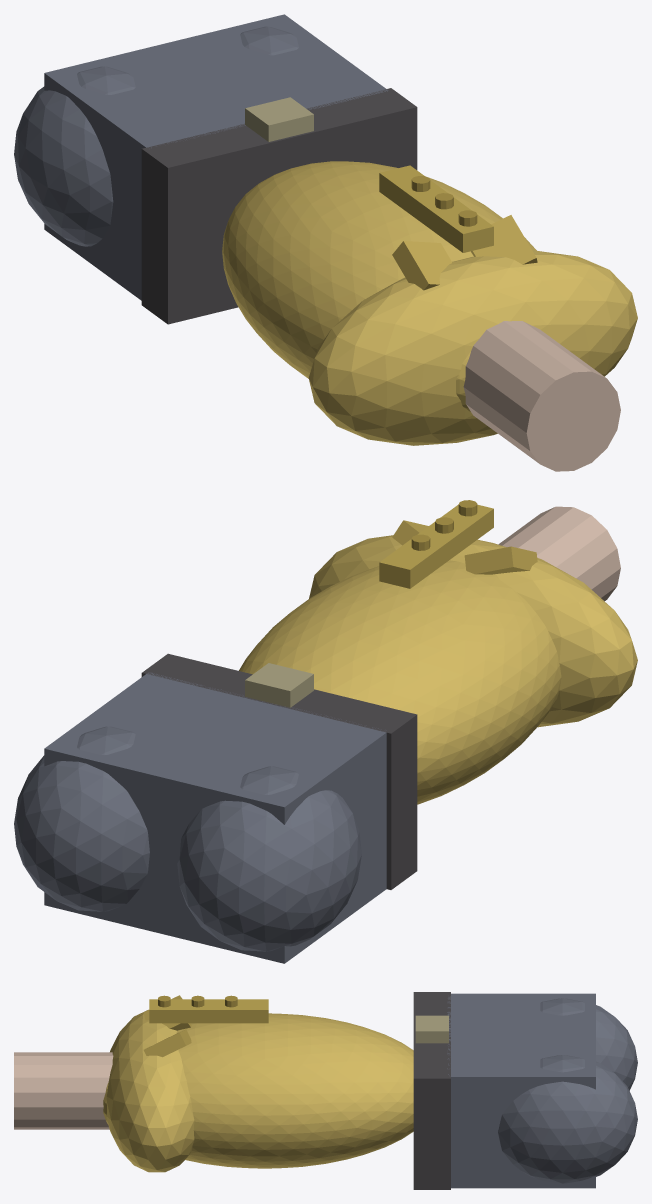
File: teibi_torso.glb
3 renders of one model, top to bottom at view 1: azimuth 30°, elevation 25°; view 2: azimuth 150°, elevation 25°; view 3: azimuth 270°, elevation 25°, orthographic. The views are drawn at different scales.
Visible parts, largest first — view 1: geometry_0; view 2: geometry_0; view 3: geometry_0.
Part boxes in pixels (left/top/right/bottom): geometry_0: left=14, top=14, right=637, bottom=471; geometry_0: left=14, top=500, right=637, bottom=963; geometry_0: left=14, top=992, right=637, bottom=1189.
Bounding box in the file's own units: 0.3538 × 0.2327 × 0.8382.
